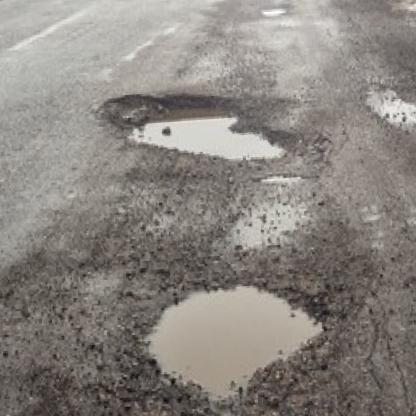pothole: (132, 267, 336, 408), (113, 88, 295, 171), (258, 3, 289, 21)
